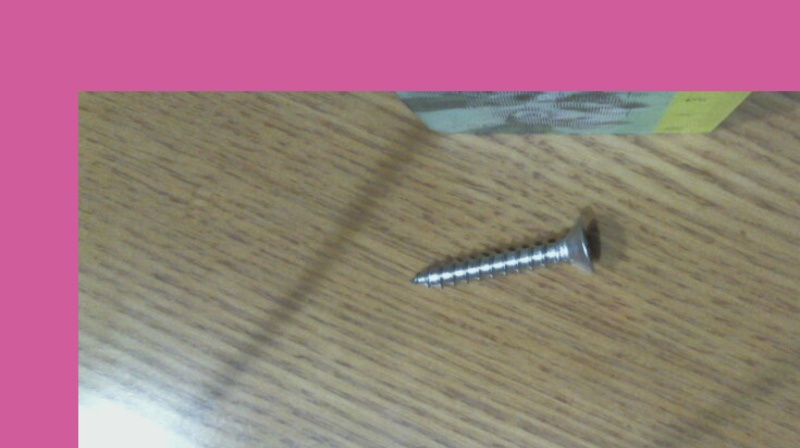S001: (409, 220, 600, 288)
